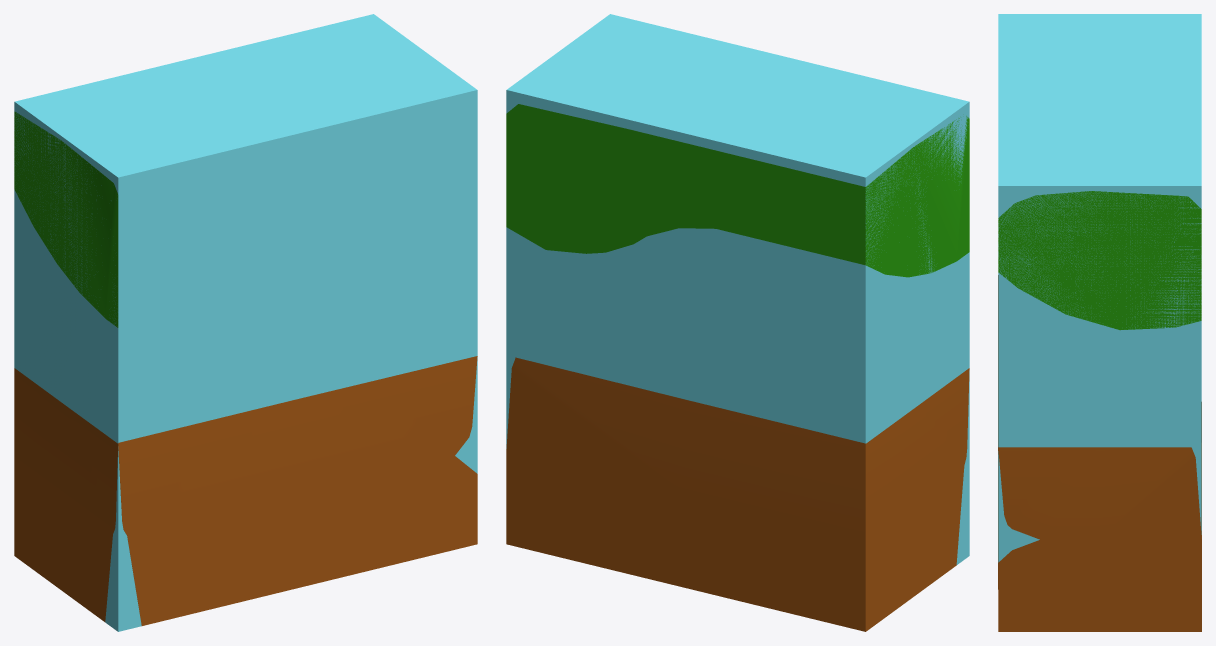
The model's file is PBOX2_Grass_01.FBX.
3 views of the same model, side by side, from view 1: azimuth 30°, elevation 25°; view 2: azimuth 150°, elevation 25°; view 3: azimuth 270°, elevation 25° (orthographic).
Parts seen in each view (by area): view 1: PBOX2_Grass_01, PBOX2_SUB_TAB_MUD_01, PBOX2_SUB_Grass_01; view 2: PBOX2_Grass_01, PBOX2_SUB_TAB_MUD_01, PBOX2_SUB_Grass_01; view 3: PBOX2_Grass_01, PBOX2_SUB_TAB_MUD_01, PBOX2_SUB_Grass_01.
Boxes of the visible parts, x1,y1,x2,y2 form: PBOX2_Grass_01: (14, 14, 477, 631); PBOX2_SUB_TAB_MUD_01: (14, 356, 477, 625); PBOX2_SUB_Grass_01: (14, 111, 118, 327); PBOX2_Grass_01: (506, 14, 969, 564); PBOX2_SUB_TAB_MUD_01: (506, 357, 969, 631); PBOX2_SUB_Grass_01: (506, 104, 969, 277); PBOX2_Grass_01: (998, 14, 1201, 562); PBOX2_SUB_TAB_MUD_01: (998, 275, 1201, 631); PBOX2_SUB_Grass_01: (998, 191, 1201, 330).
Bounding box in the file's own units: 12 × 14.5 × 6.
